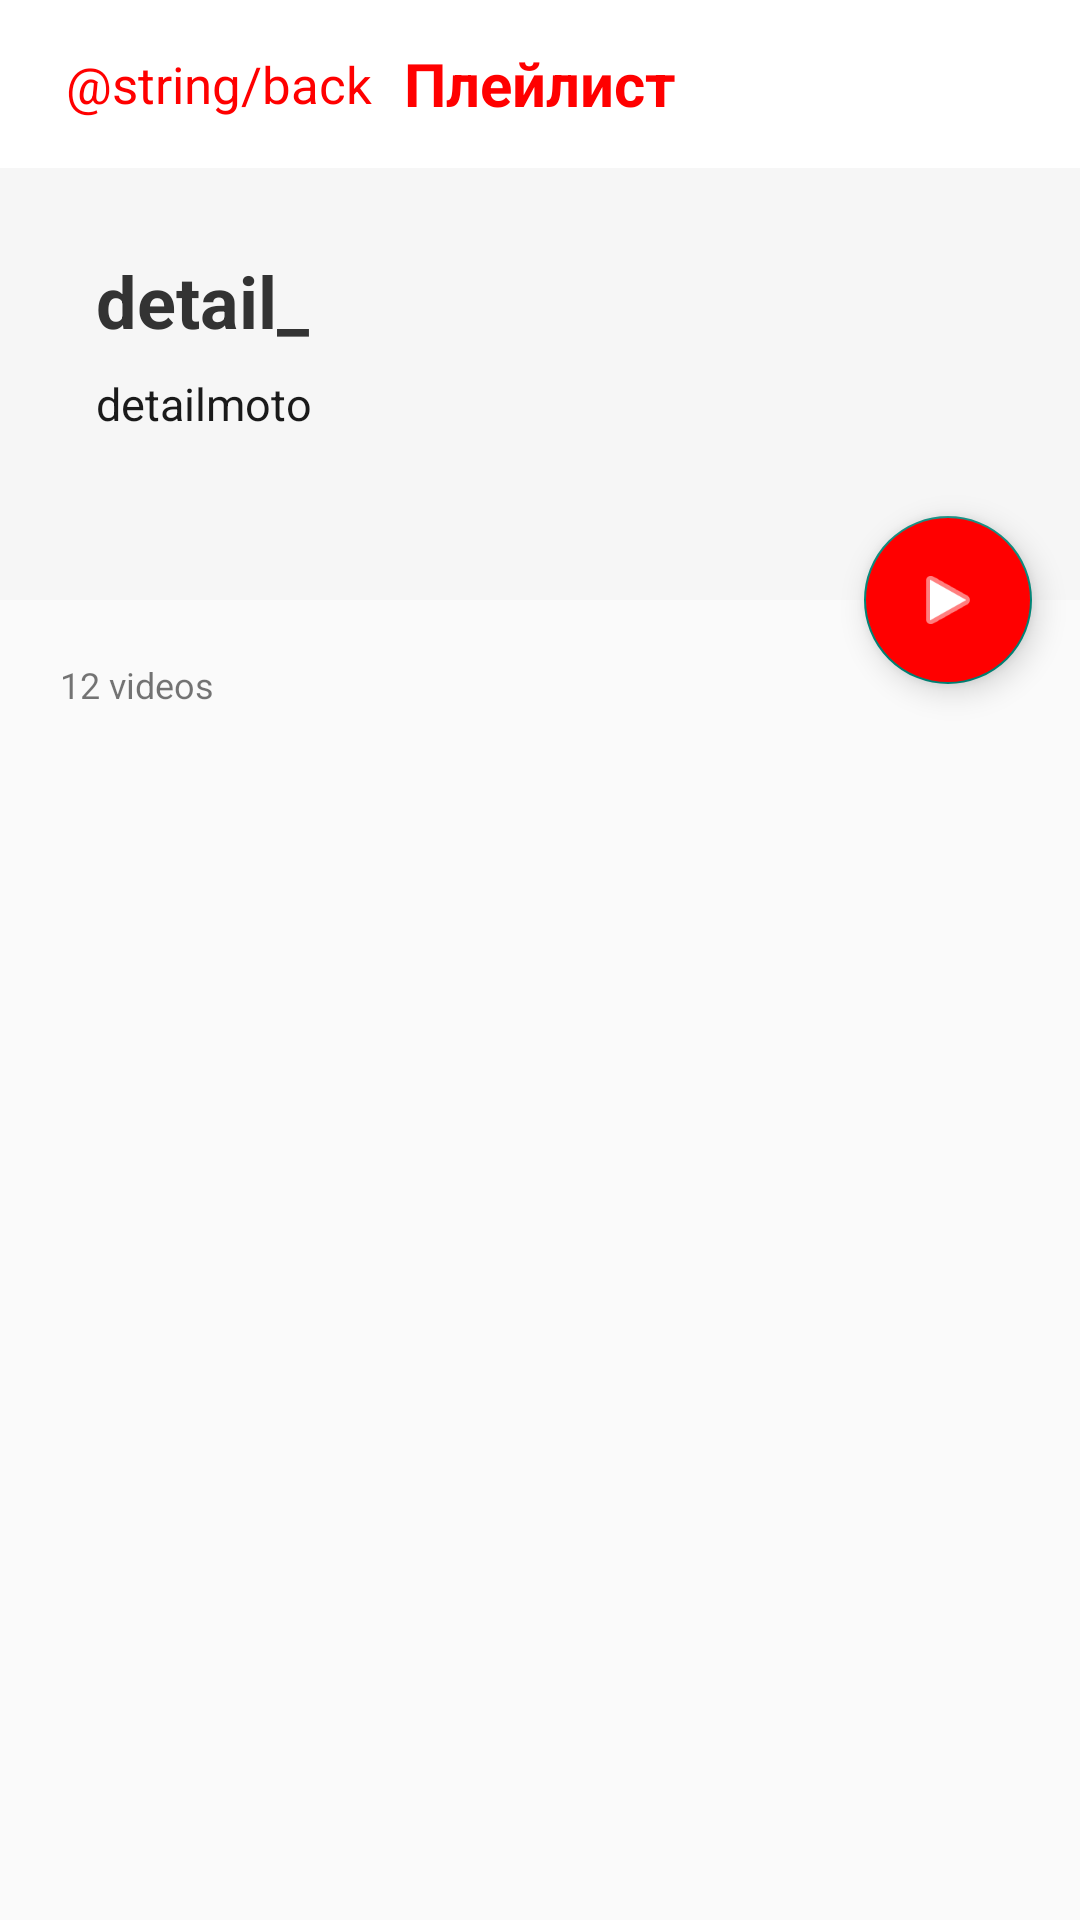

Where icons sit on this 1080px x 1920px app screen, as box(x1, y1, x2, y2):
play: box(864, 516, 1032, 684)
